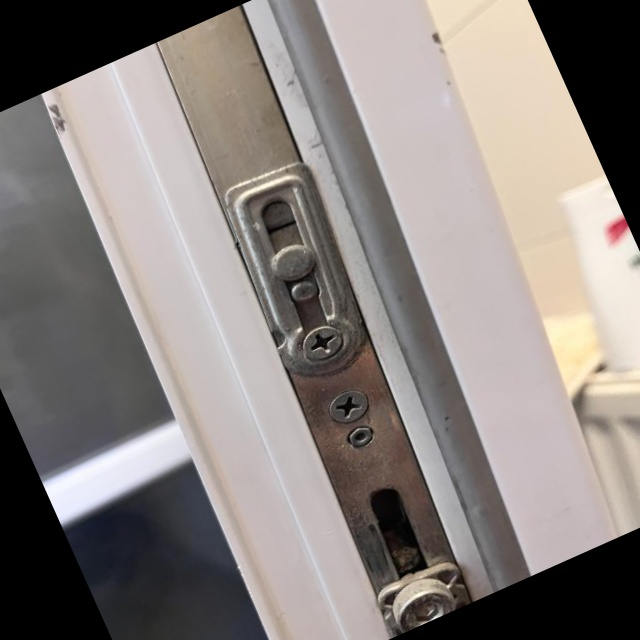allen: (347, 424, 376, 450)
phillips: (323, 384, 375, 430), (297, 320, 348, 366)
